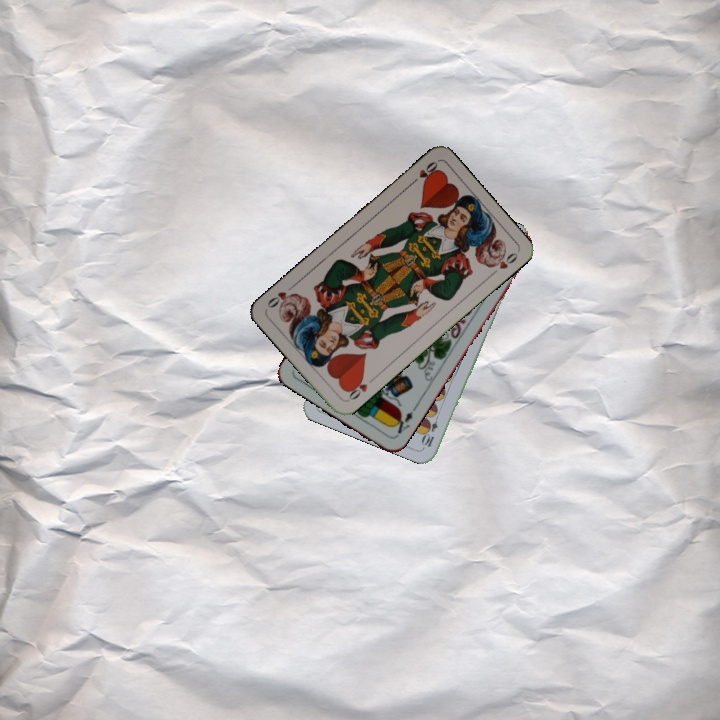E10: (419, 409, 442, 450)
EA: (388, 407, 416, 439)
HO: (342, 373, 377, 404), (406, 157, 440, 188)
